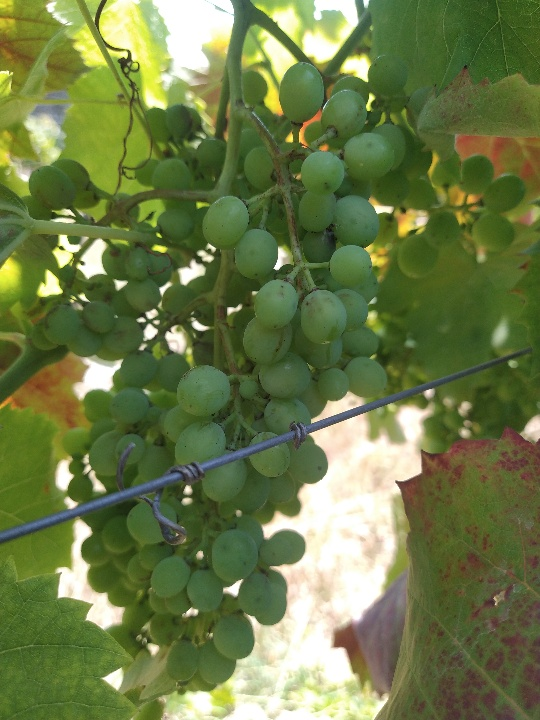grape: (23, 57, 531, 695)
